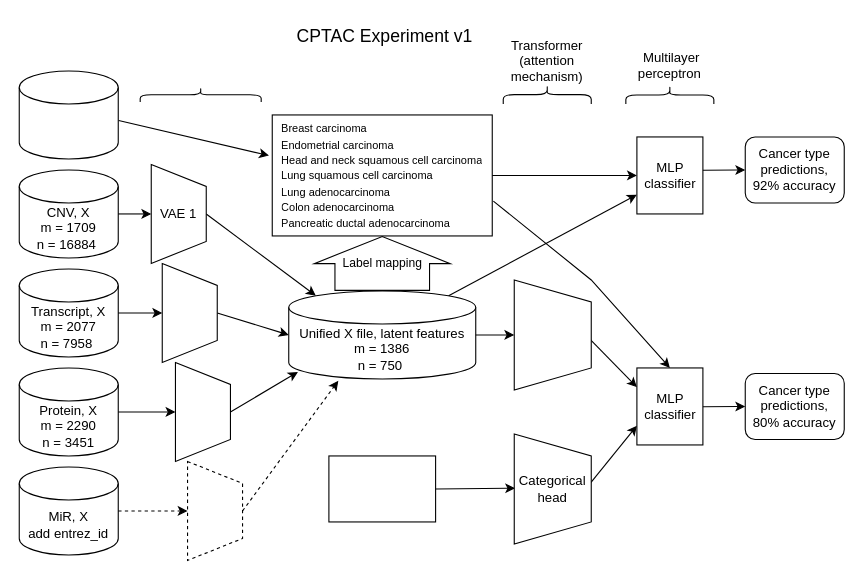
Image size: 864x580. Some labels were removed from this diagram. Here are the shapes that lost their labels. From the top down, the box of each, then its label:
(18, 70, 118, 159): Samples, y cancer_type
(139, 87, 261, 102): Variational auto encoders, latent feature dim = 250
(161, 262, 217, 362): VAE 2
(513, 279, 591, 390): Numeric head
(174, 361, 230, 461): VAE 3
(328, 455, 436, 522): Placeholder categorical X variable
